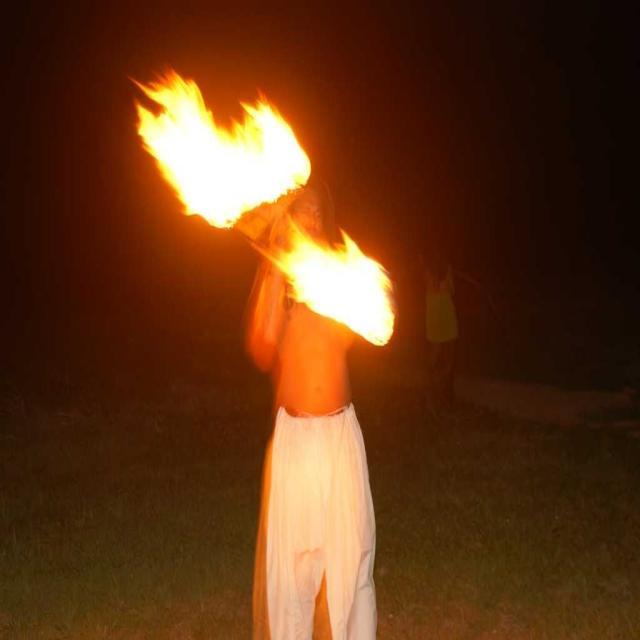Fire: (172, 98, 298, 206), (300, 235, 393, 329)
